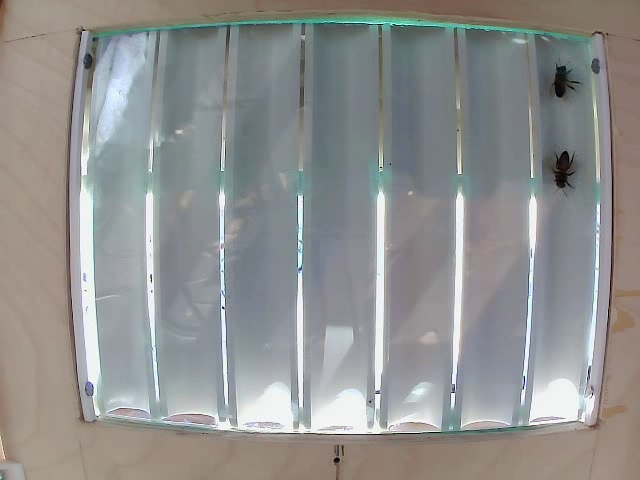bee: (545, 149, 577, 197), (546, 57, 575, 91)
